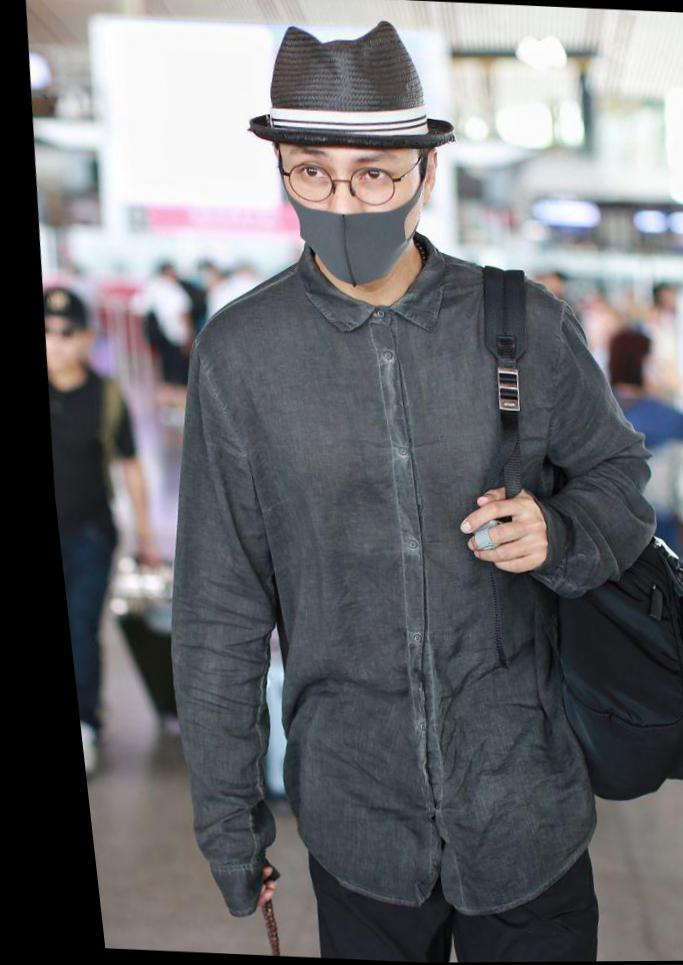NONE: (33, 315, 77, 378)
WRONG: (265, 140, 420, 295)
